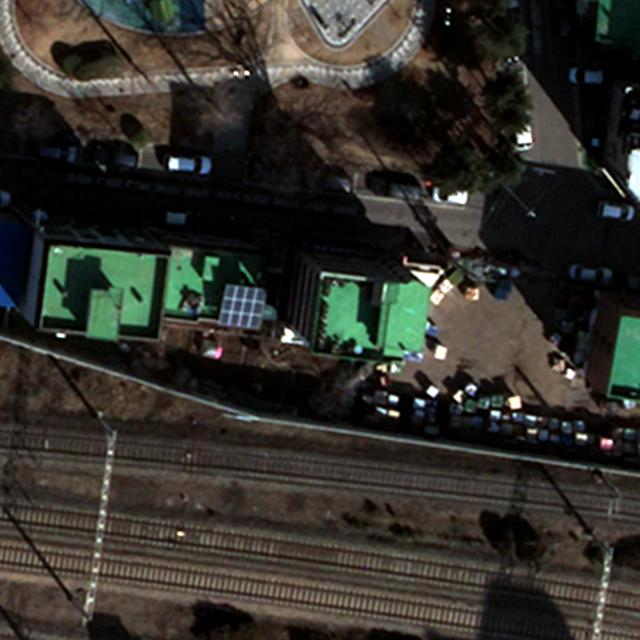panel: (217, 283, 268, 333)
